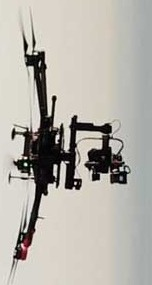drone: (7, 25, 131, 278)
